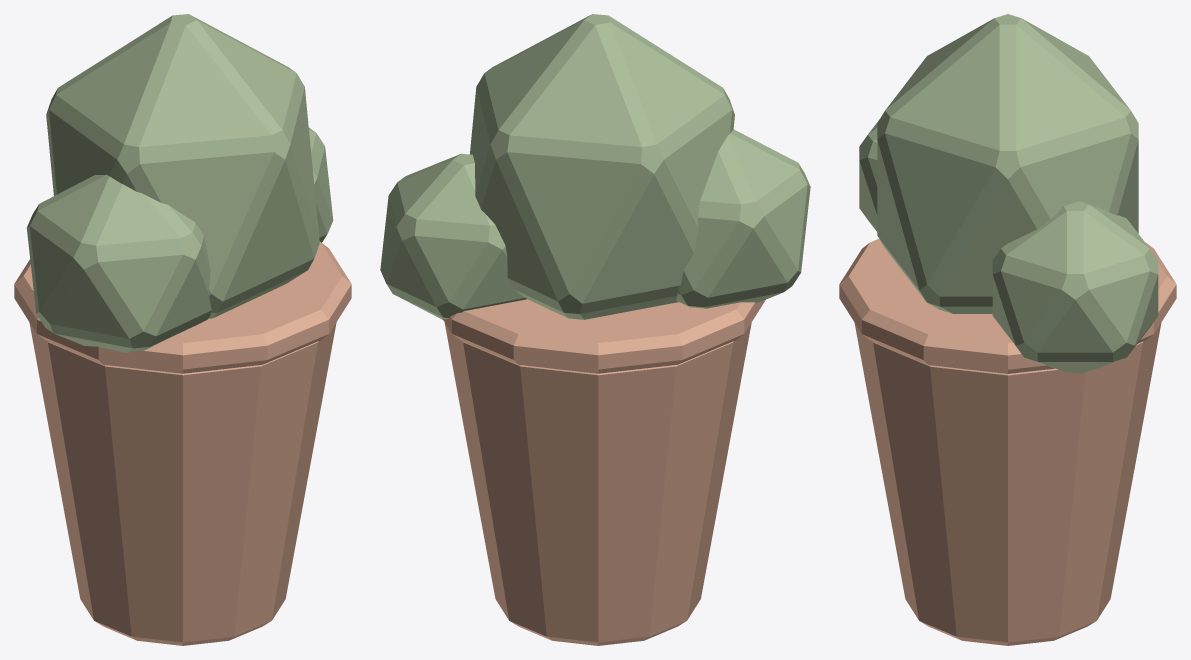
File: SM_Vase_Plant.fbx
3 renders of one model, left to right at view 1: azimuth 30°, elevation 25°; view 2: azimuth 150°, elevation 25°; view 3: azimuth 270°, elevation 25°, orthographic.
Parts seen in each view (by area): view 1: Vase_Plant; view 2: Vase_Plant; view 3: Vase_Plant.
Boxes of the visible parts, x1,y1,x2,y2 form: Vase_Plant: [14, 14, 351, 645]; Vase_Plant: [380, 14, 810, 645]; Vase_Plant: [839, 14, 1176, 645].
Bounding box in the file's own units: 35.39 × 57.65 × 30.
